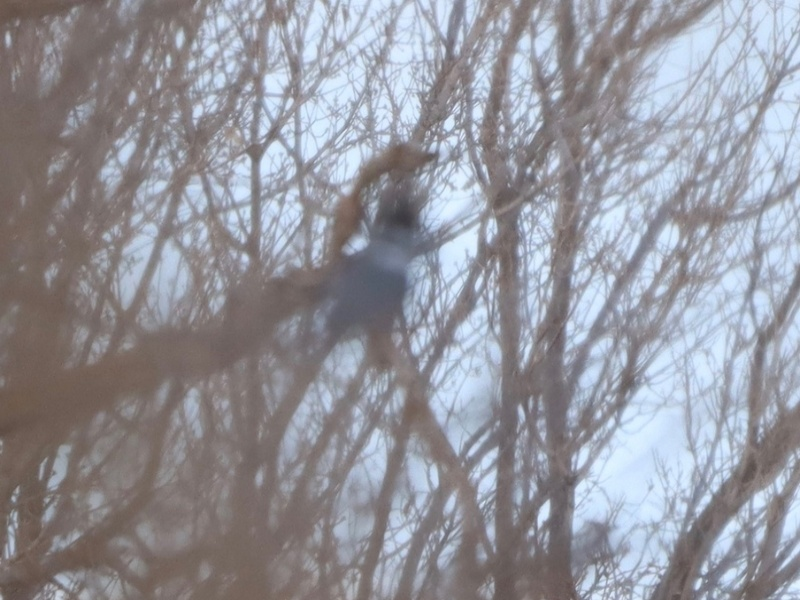kingfisher: (322, 194, 427, 354)
